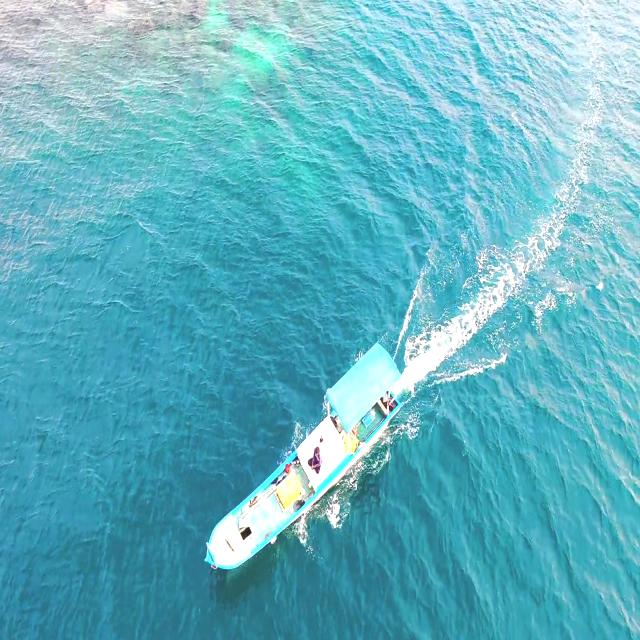ship: (201, 334, 402, 581)
